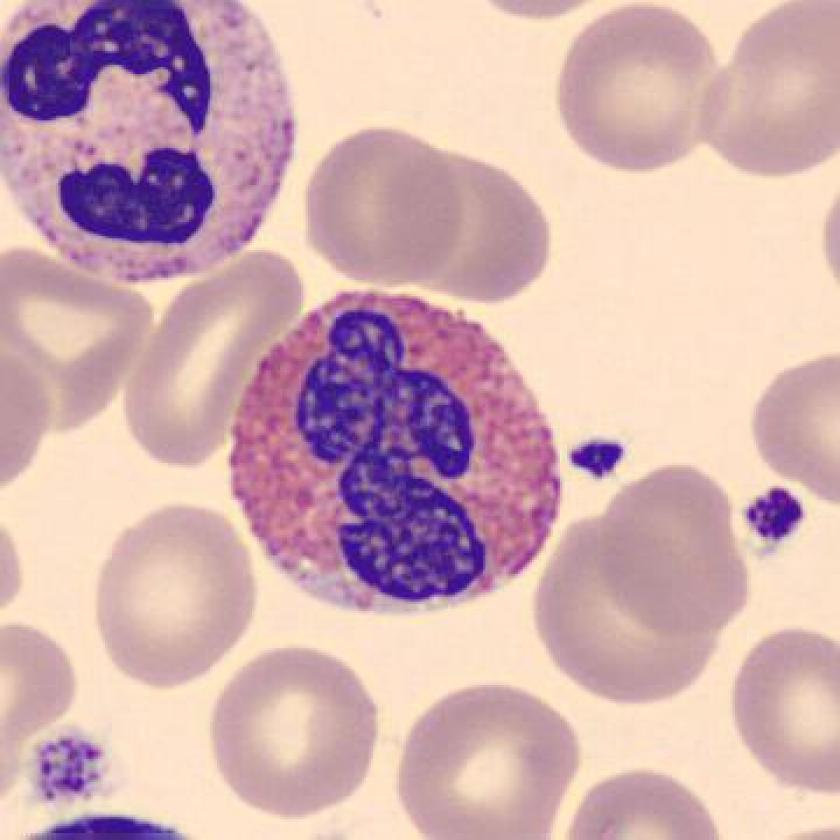eosinophil: (218, 277, 580, 622)
